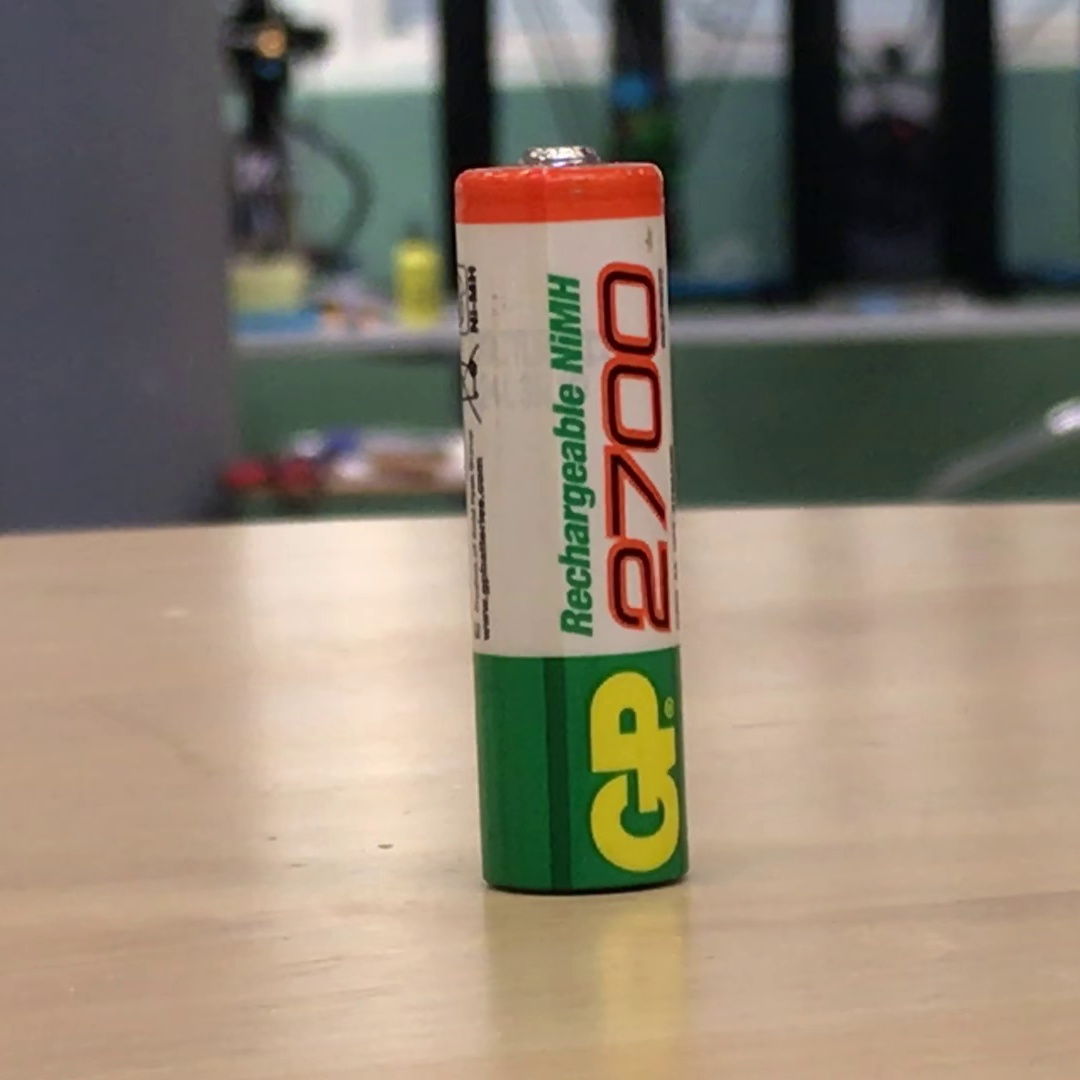keyword: (538, 265, 592, 384)
